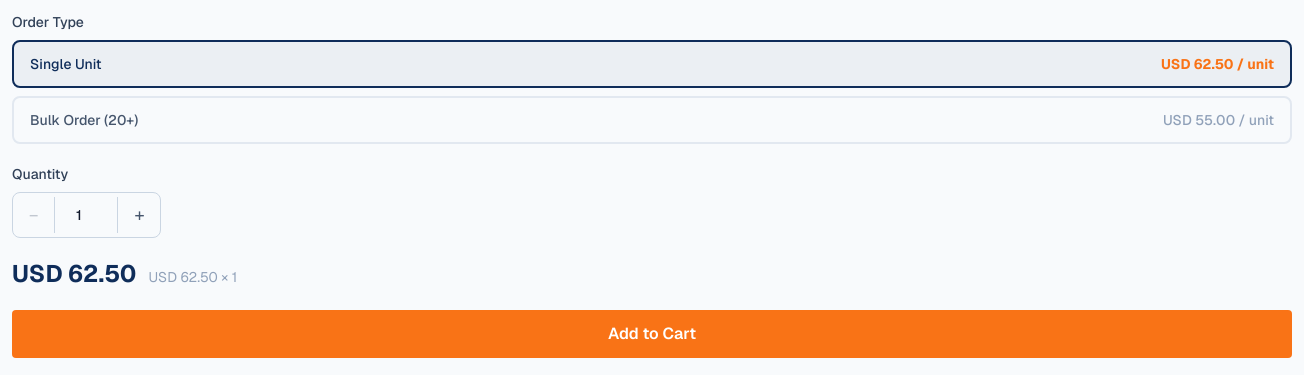
VariantSelector › selecting bulk variant changes quantity to 20
Step 1. Click the button "Bulk Order (20+) USD 55.00 / unit" → {"x": 84, "y": 120}, box [12,96,1292,144]
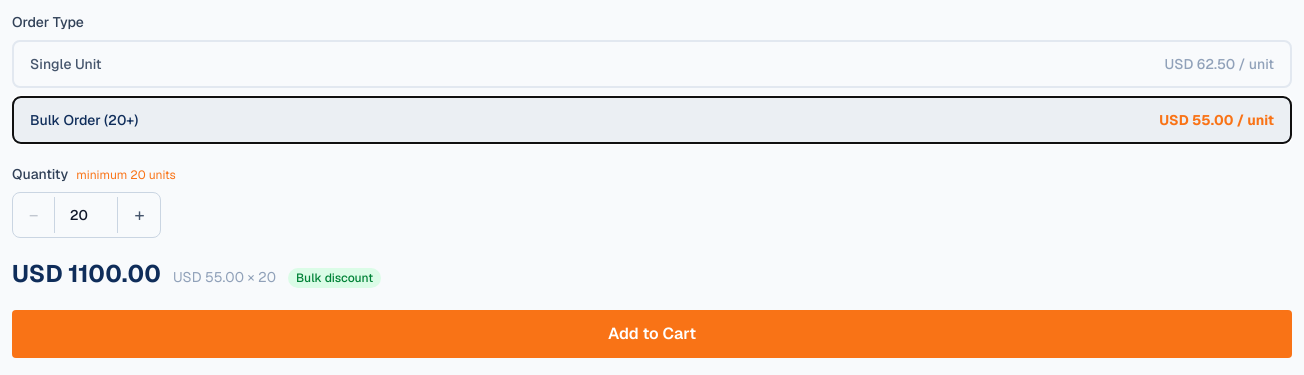
Result: the number field holds "20" at [54,197,118,233]
